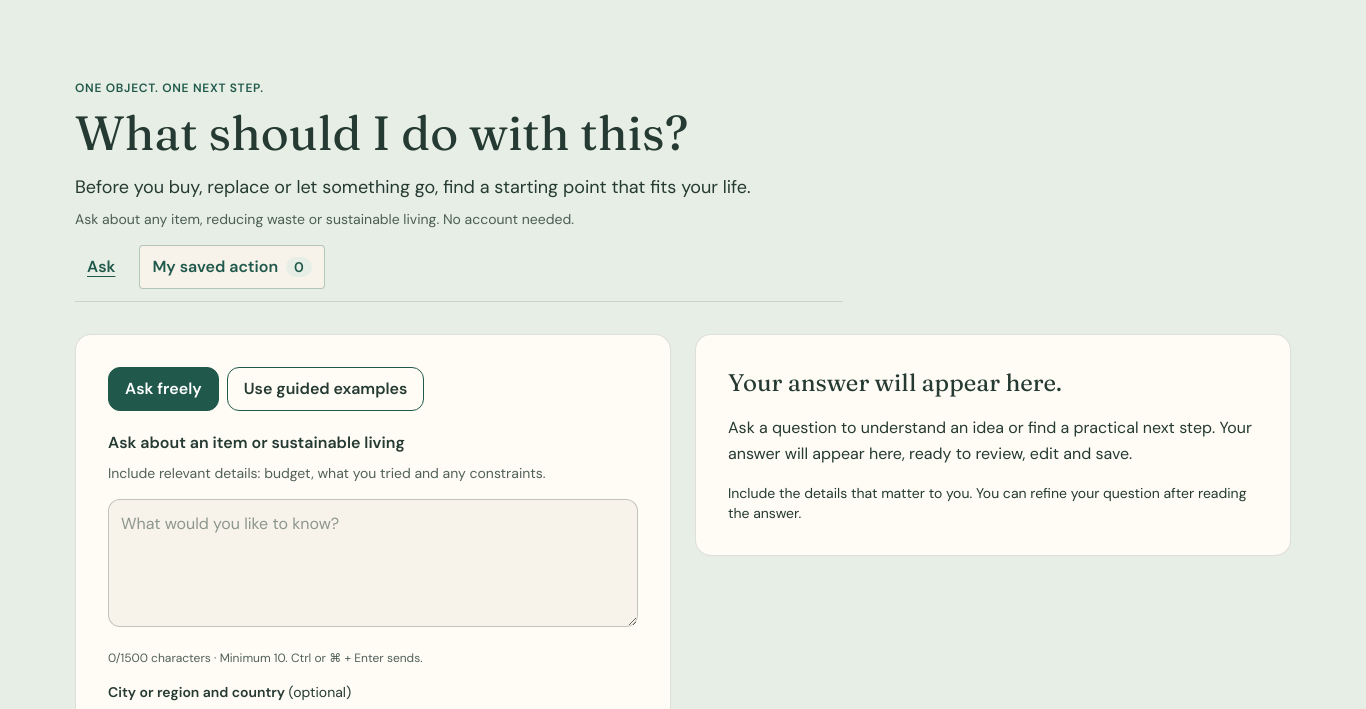
it: clears stale advice when an answer changes and provides model-specific caution
Click the button "Use guided examples" at {"x": 326, "y": 389}, box [227,367,424,411]
(page scrolled)
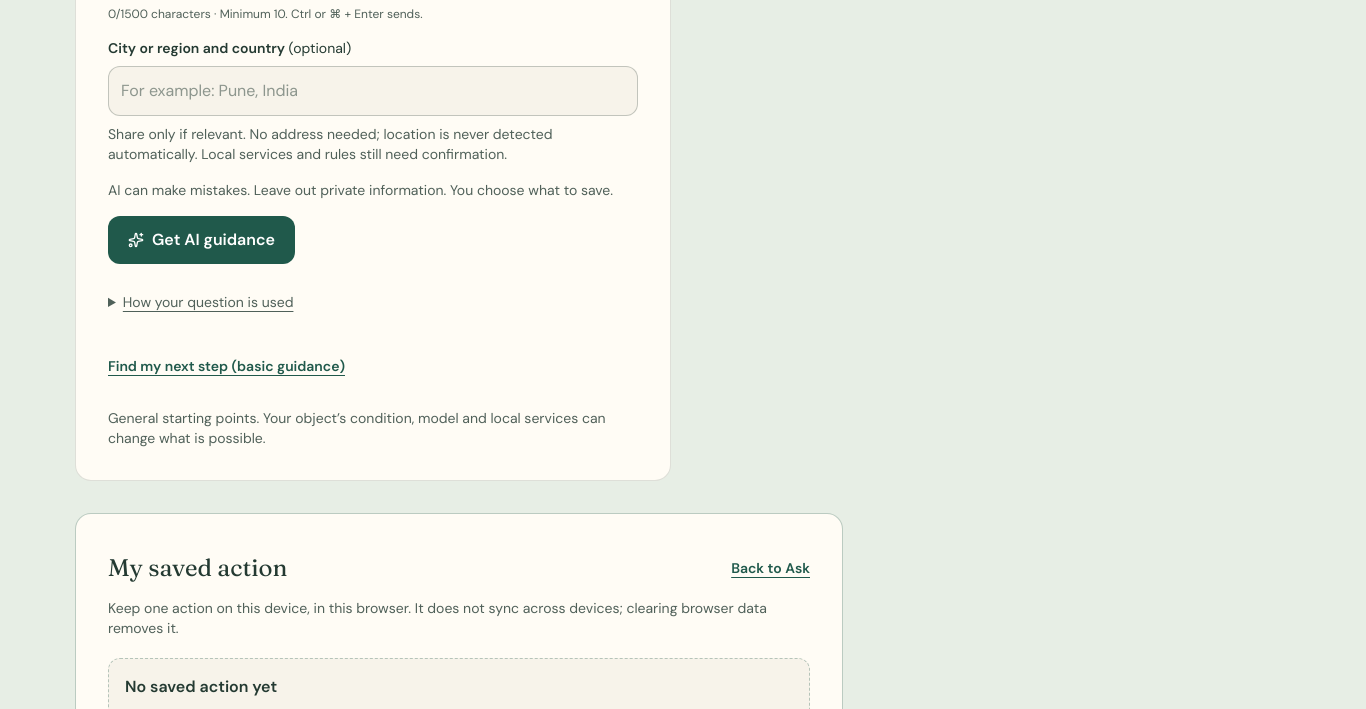
Click the button "Find my next step (basic guidance)" at {"x": 226, "y": 366}, box [108,344,345,388]
(page scrolled)
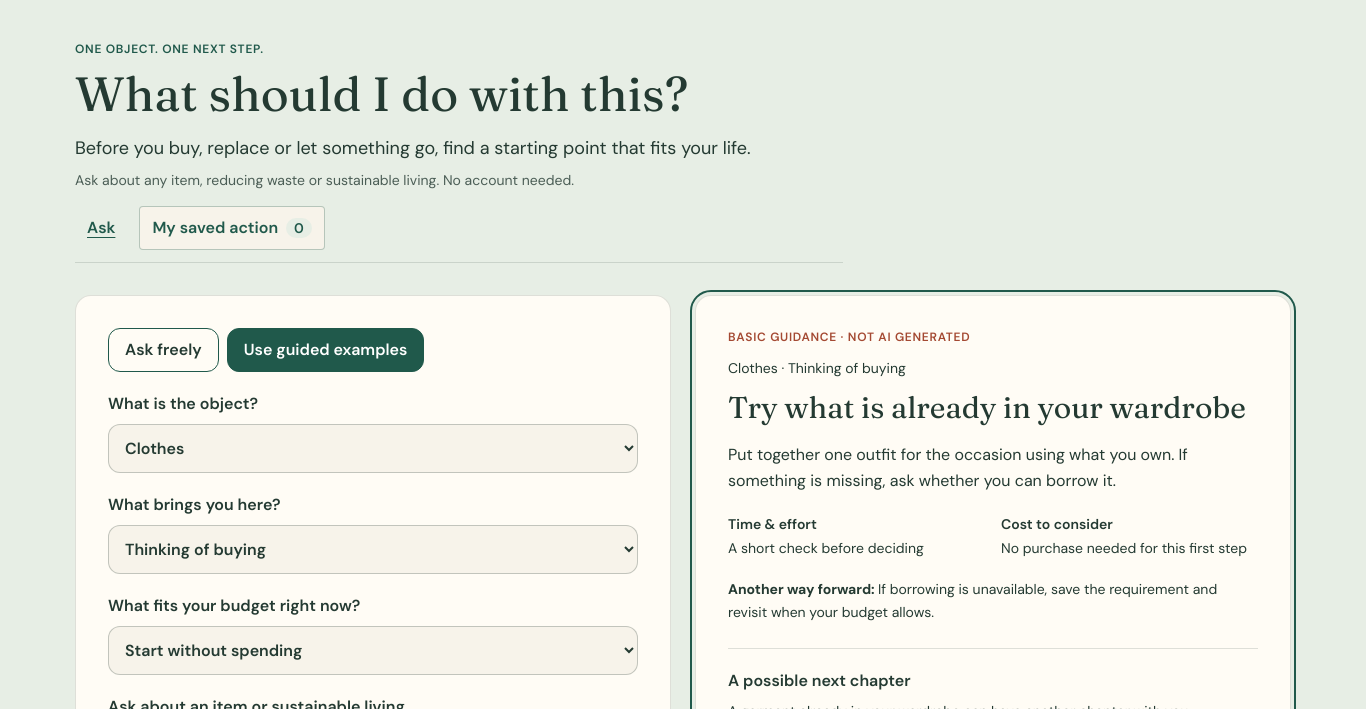
Select "Headphones" in the dropdown labelled "What is the object?" at {"x": 373, "y": 448}, box [108,424,638,473]
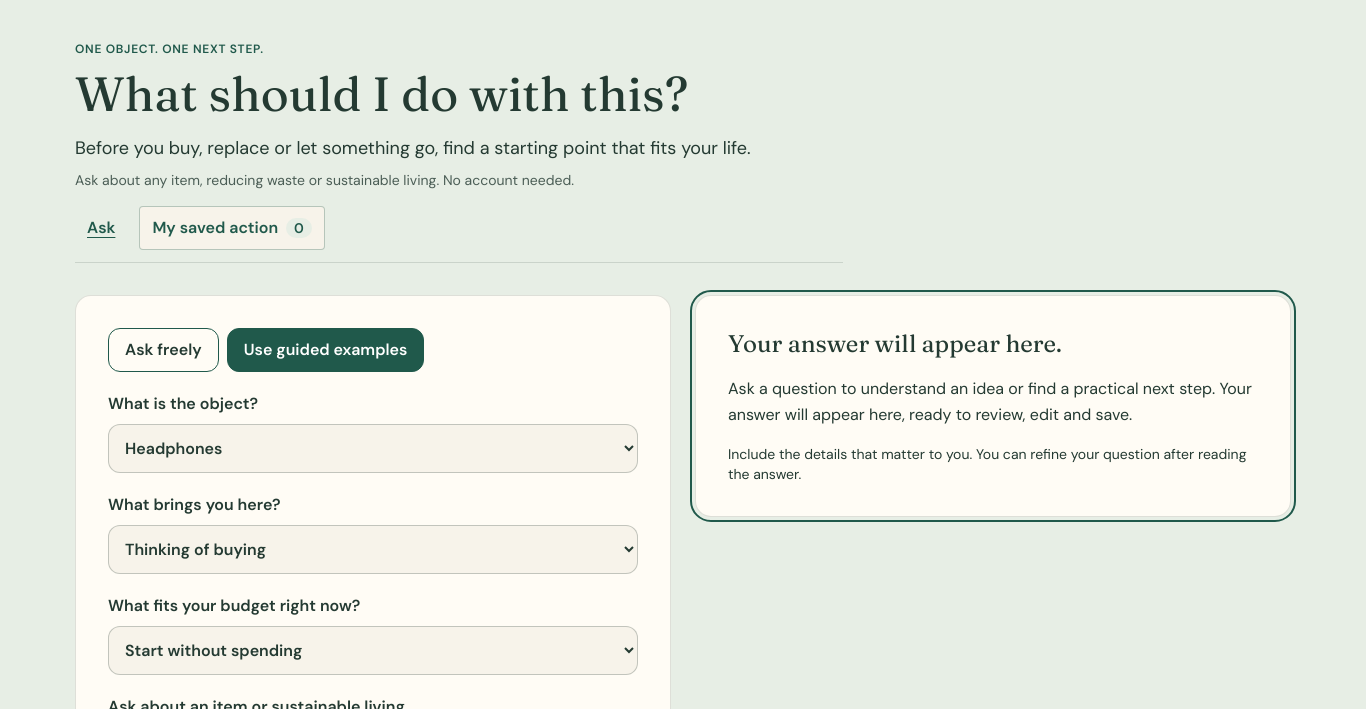
Select "Something needs attention" in the dropdown labelled "What brings you here?" at {"x": 373, "y": 550}, box [108,525,638,574]
(page scrolled)
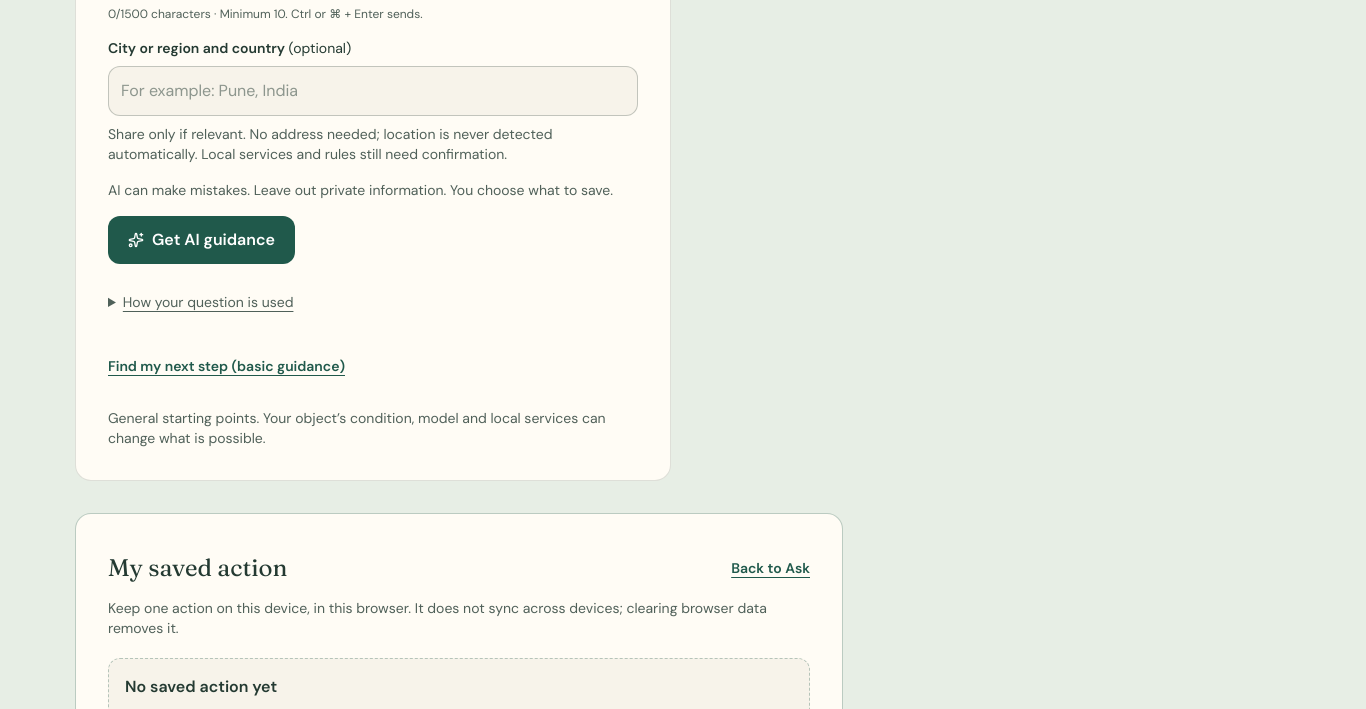
Click the button "Find my next step (basic guidance)" at {"x": 226, "y": 366}, box [108,344,345,388]
(page scrolled)
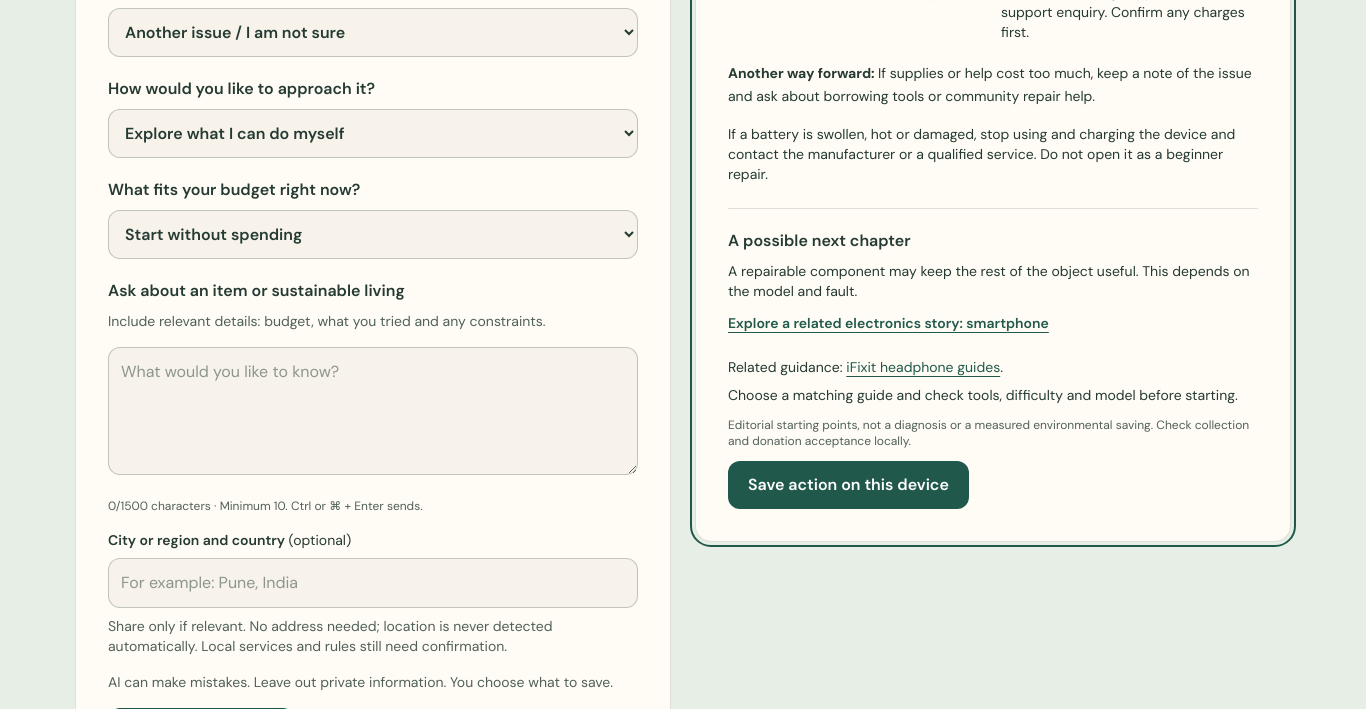
expect the text "battery is swollen" is shown: met, box [728,124,1235,182]
expect the link to "https://www.ifixit.com/Device/Headphone" is shown: met, box [846,358,1000,376]
